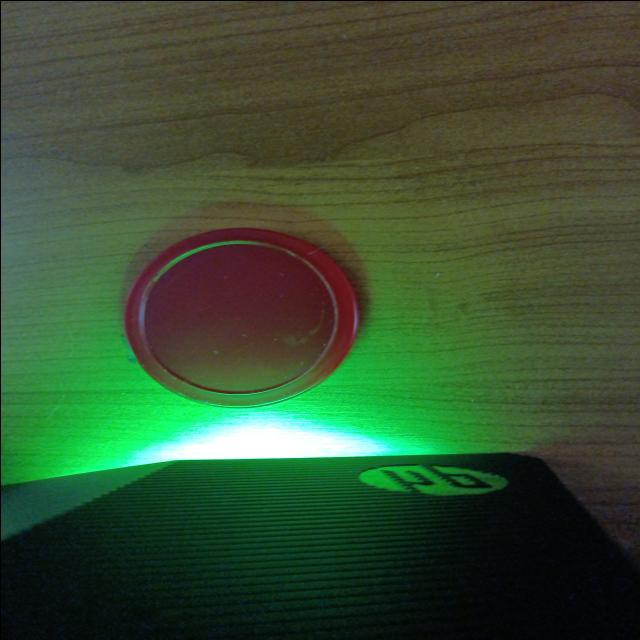chip: (120, 228, 360, 408)
